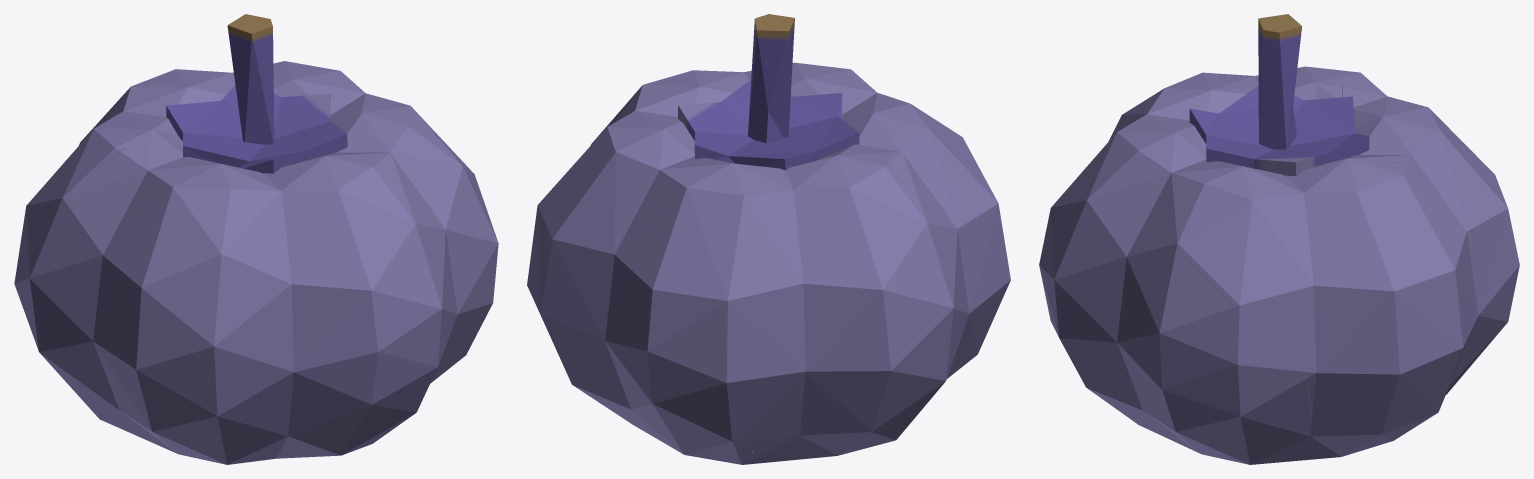
File: Pumpkin 1B (2).fbx
3 views of the same model, side by side, from view 1: azimuth 30°, elevation 25°; view 2: azimuth 150°, elevation 25°; view 3: azimuth 270°, elevation 25° (orthographic).
Parts seen in each view (by area): view 1: Pumpkin_01_cell.009, Pumpkin_01_cell.002, Pumpkin_01_cell, Pumpkin_01_cell.003, Pumpkin_01_cell.008, Pumpkin_01_cell.005, Pumpkin_01_cell.006, Pumpkin_01_cell.004, Pumpkin_01_cell.001; view 2: Pumpkin_01_cell.004, Pumpkin_01_cell.005, Pumpkin_01_cell.009, Pumpkin_01_cell.001, Pumpkin_01_cell.008, Pumpkin_01_cell, Pumpkin_01_cell.007; view 3: Pumpkin_01_cell.001, Pumpkin_01_cell.003, Pumpkin_01_cell.004, Pumpkin_01_cell.008, Pumpkin_01_cell.006, Pumpkin_01_cell, Pumpkin_01_cell.007, Pumpkin_01_cell.002, Pumpkin_01_cell.005.
Boxes of the visible parts, x1,y1,x2,y2 form: Pumpkin_01_cell.009: (33,148,236,464); Pumpkin_01_cell.002: (226,145,430,463); Pumpkin_01_cell: (126,115,377,292); Pumpkin_01_cell.003: (241,156,498,463); Pumpkin_01_cell.008: (167,14,418,157); Pumpkin_01_cell.005: (14,120,135,337); Pumpkin_01_cell.006: (256,288,494,461); Pumpkin_01_cell.004: (79,69,235,145); Pumpkin_01_cell.001: (273,61,482,198); Pumpkin_01_cell.004: (593,157,827,455); Pumpkin_01_cell.005: (752,162,955,459); Pumpkin_01_cell.009: (774,150,1010,461); Pumpkin_01_cell.001: (527,71,689,314); Pumpkin_01_cell.008: (646,14,795,166); Pumpkin_01_cell: (782,62,971,169); Pumpkin_01_cell.007: (540,277,775,464); Pumpkin_01_cell.001: (1176,162,1466,392); Pumpkin_01_cell.003: (1042,209,1311,416); Pumpkin_01_cell.004: (1341,83,1519,348); Pumpkin_01_cell.008: (1160,14,1398,197); Pumpkin_01_cell.006: (1065,348,1346,464); Pumpkin_01_cell: (1102,71,1341,158); Pumpkin_01_cell.007: (1308,269,1489,455); Pumpkin_01_cell.002: (1039,149,1186,287); Pumpkin_01_cell.005: (1297,66,1372,84).
Bounding box in the file's own units: 45.27 × 41.34 × 46.03.
